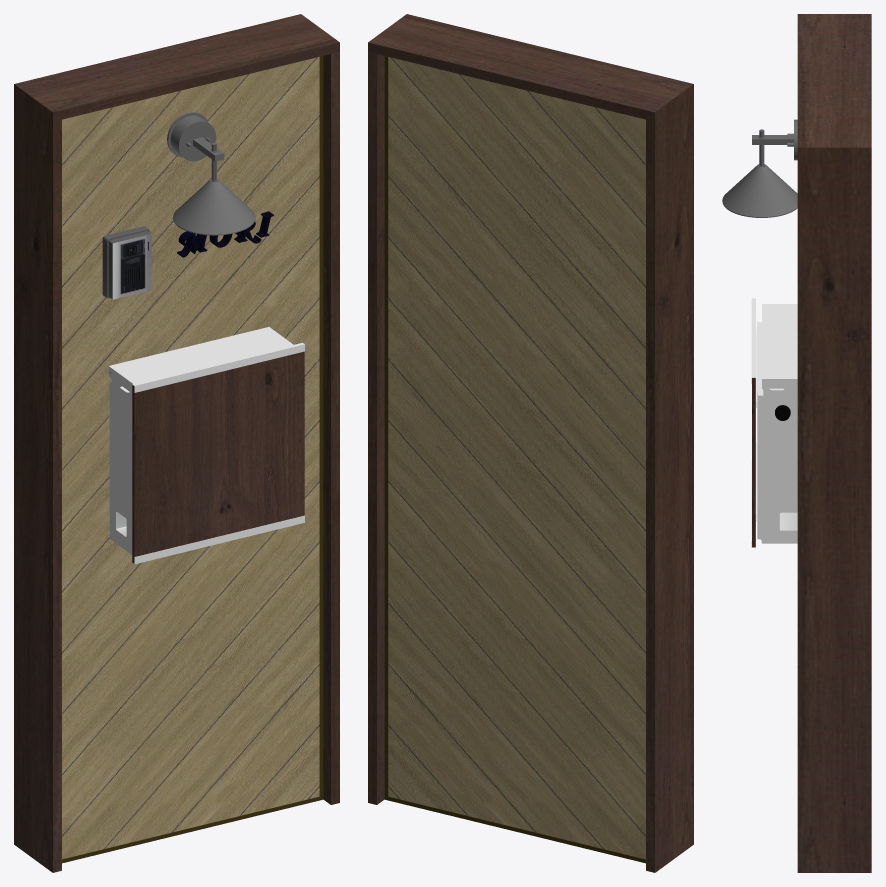
The model's file is 640ｰ1620_daiagonatural.fbx.
3 views of the same model, side by side, from view 1: azimuth 30°, elevation 25°; view 2: azimuth 150°, elevation 25°; view 3: azimuth 270°, elevation 25° (orthographic). The views are drawn at different scales.
Parts seen in each view (by area): view 1: 640ｰ1620_daiagonatural; view 2: 640ｰ1620_daiagonatural; view 3: 640ｰ1620_daiagonatural.
Part boxes in pixels (bbox=[...]): 640ｰ1620_daiagonatural: bbox=[14, 14, 339, 872]; 640ｰ1620_daiagonatural: bbox=[368, 14, 693, 872]; 640ｰ1620_daiagonatural: bbox=[722, 14, 871, 872].
Size of the model in its own units: 64 by 162 by 30.22.
14 materials, 5 textured.
